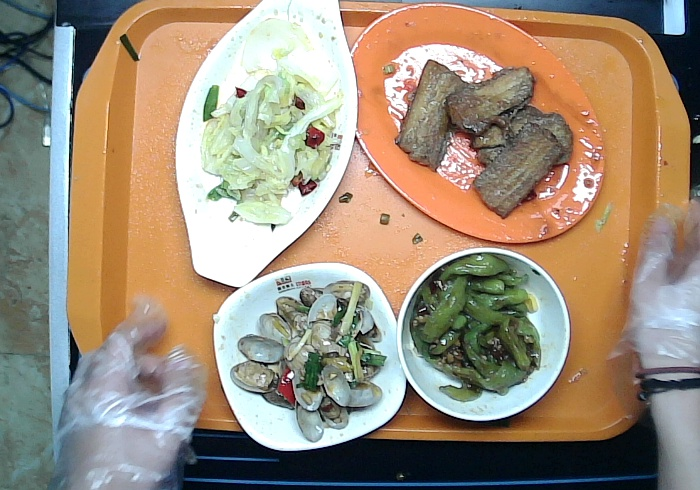NLDX-Bai_Se_Xiao_Fang_Die: (212, 262, 406, 454)
NLDX-Fan_Wan: (397, 248, 568, 422)
NLDX-Ju_Se_Pan: (348, 4, 605, 243)
NLDX-Yu_Pan: (176, 1, 358, 288)
